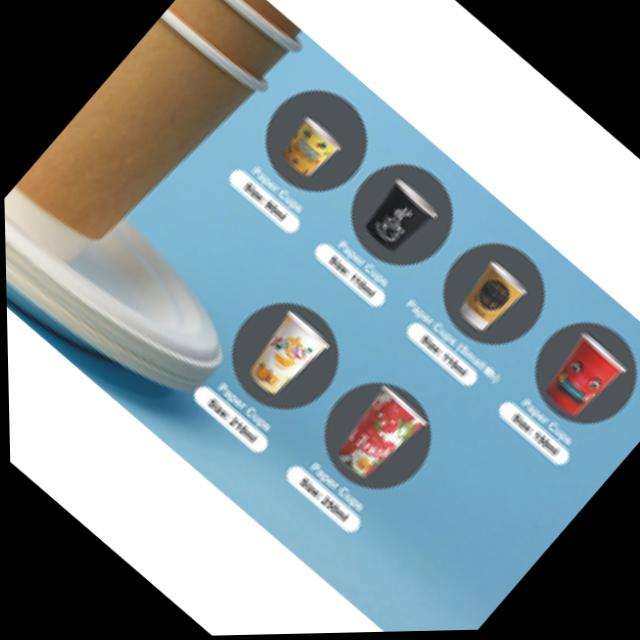paper_cups: (324, 386, 425, 489), (233, 309, 329, 407), (534, 334, 626, 427), (445, 258, 529, 344), (358, 178, 441, 262), (271, 112, 346, 187)
